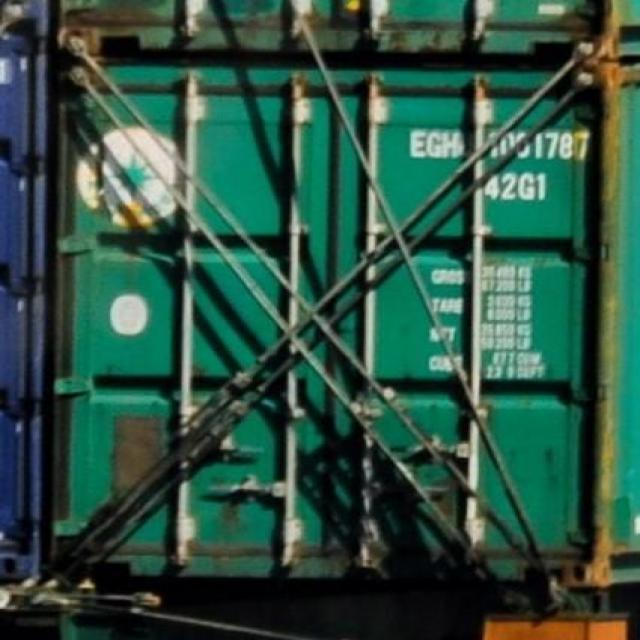ISO: (487, 172, 548, 202)
container_number: (407, 128, 581, 169)
